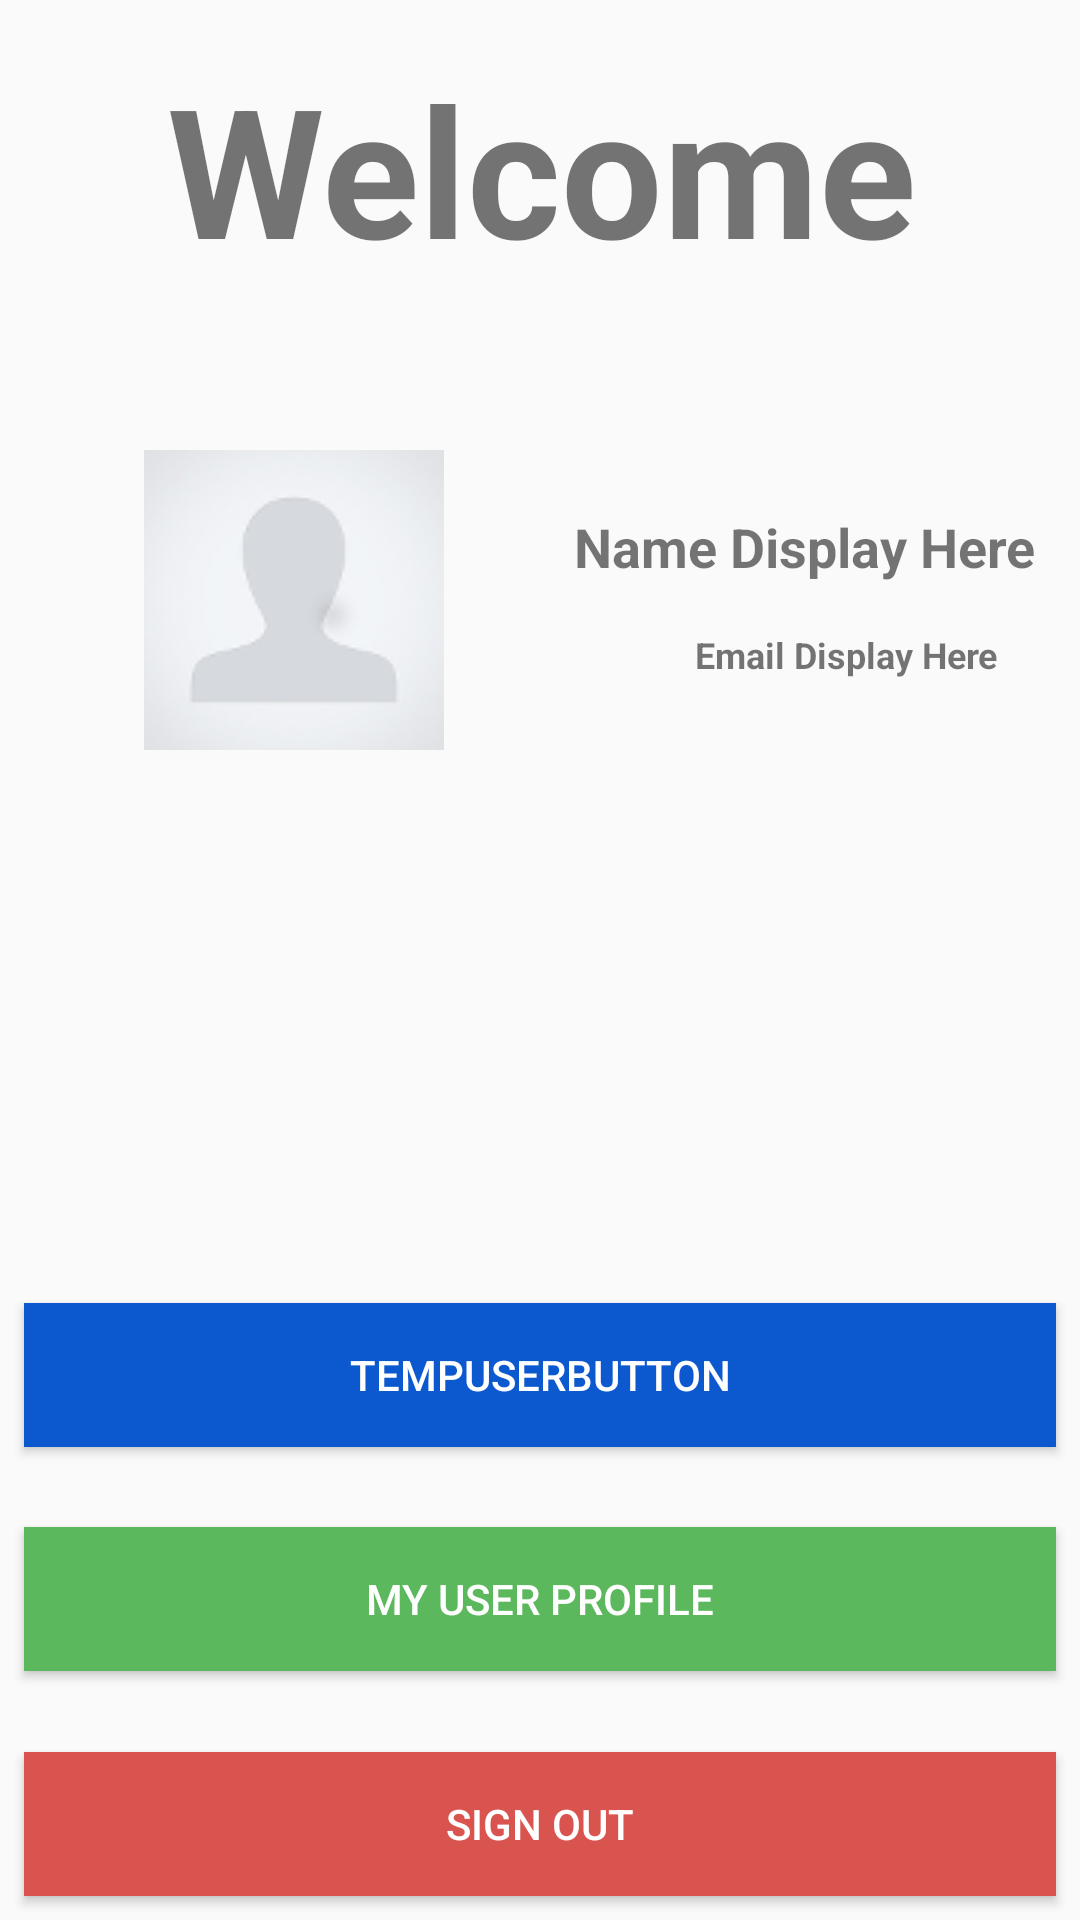

Named icons in this screenshot (1080*1920) and their centers, point (x, y):
user: point (294, 600)
